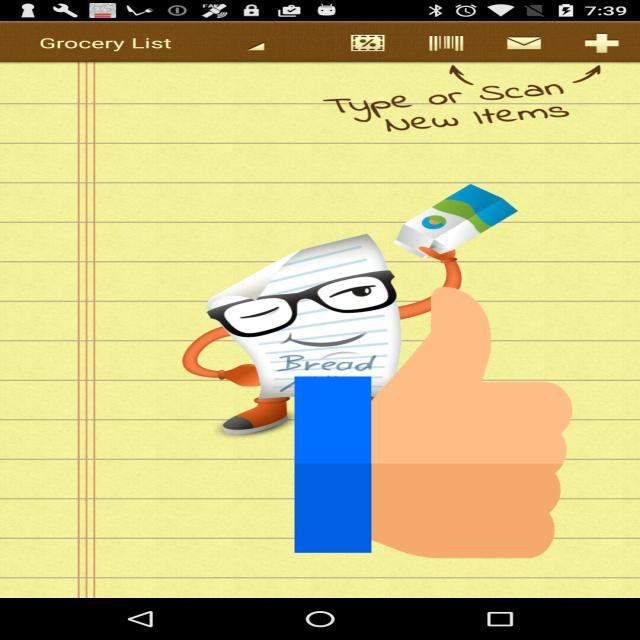privacy zuckering: (294, 280, 572, 565)
